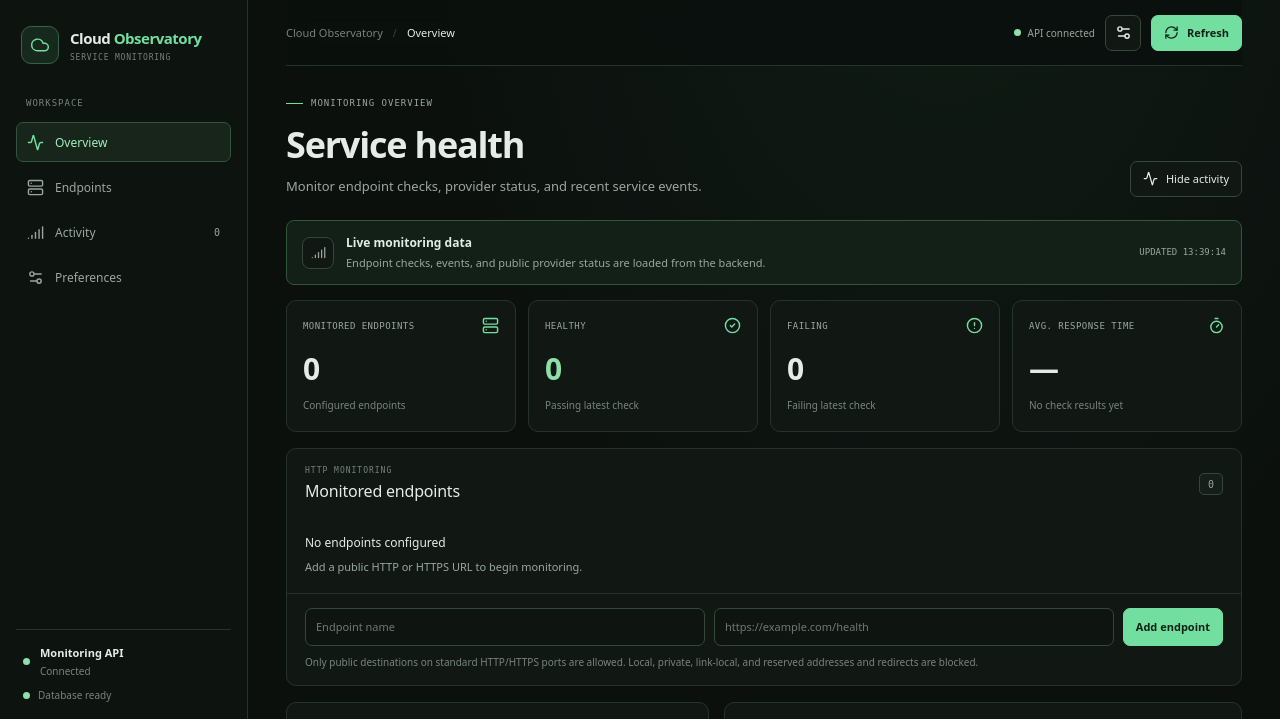
Test case: dashboard interactions › keeps mobile navigation limited to working sections
The image size is (1280, 719).
expect the text "No endpoints configured" is shown: met, box [305, 534, 446, 551]
Click the button "Hide activity" at point(1186, 179), box [1130, 161, 1242, 197]
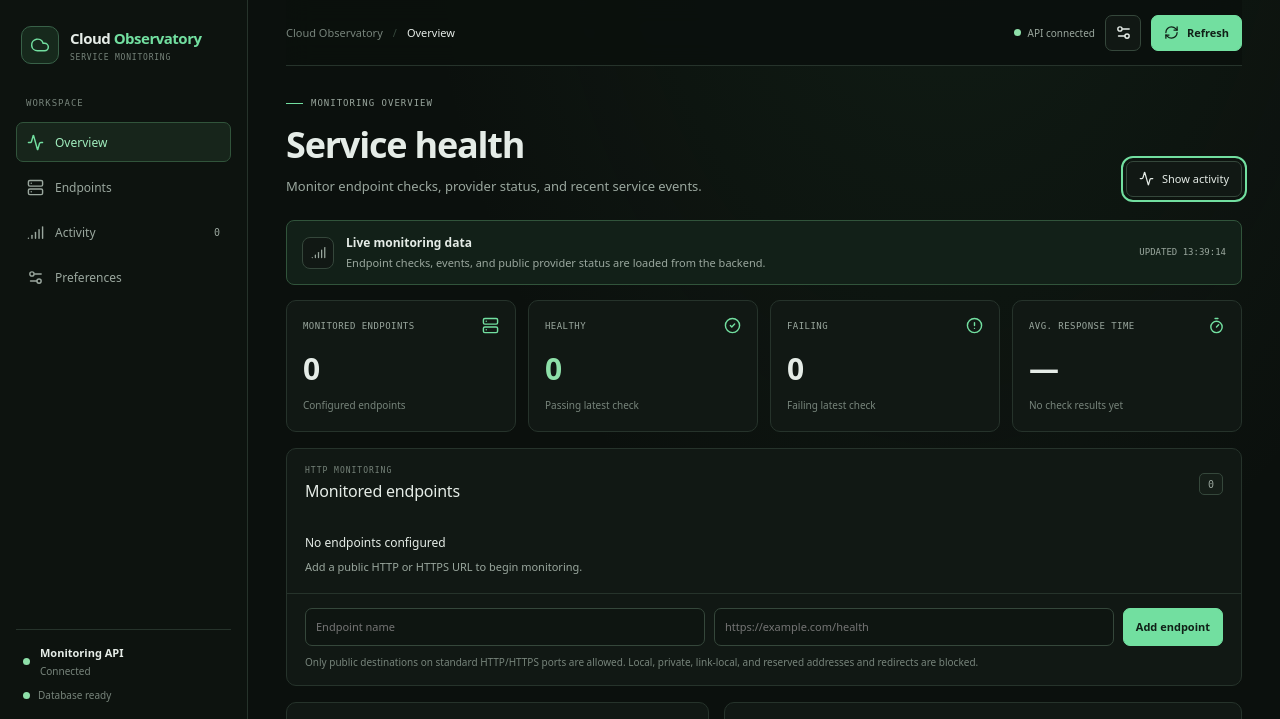
Click the button "Activity 0" at point(124, 232), box [16, 212, 231, 252]
(page scrolled)
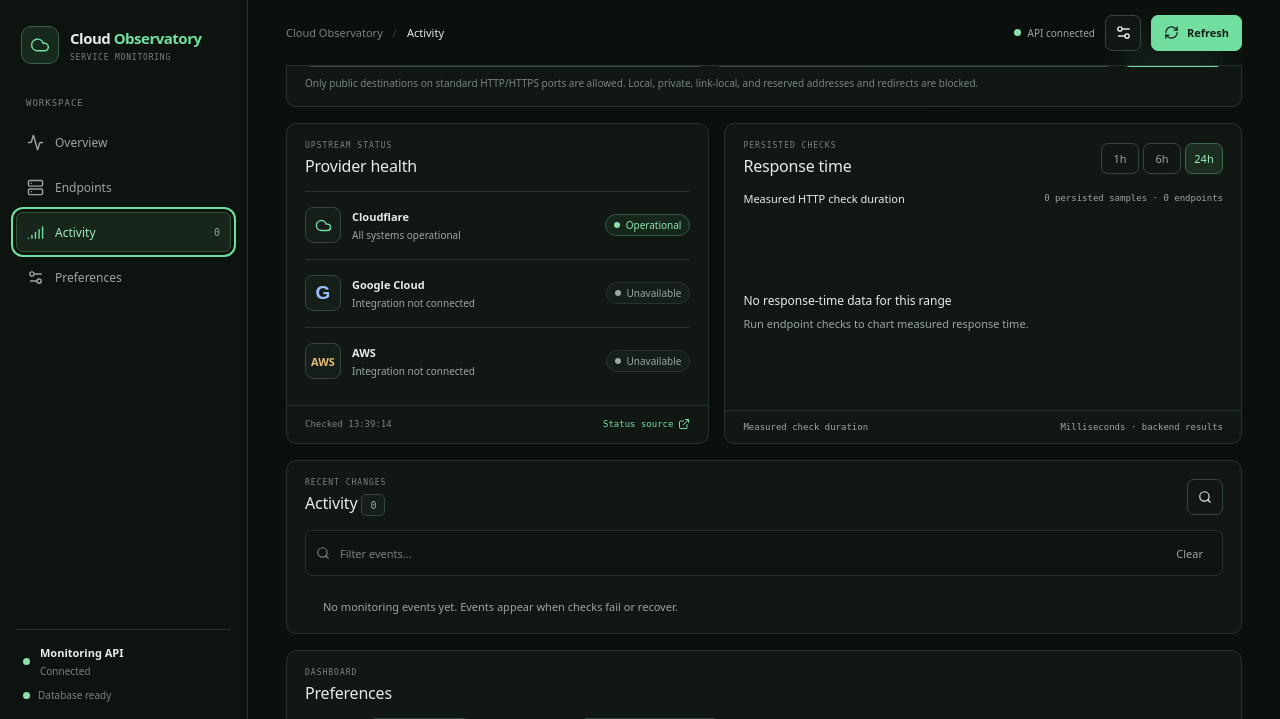
expect the field named "Filter activity" is shown: met, box [338, 545, 1159, 562]
